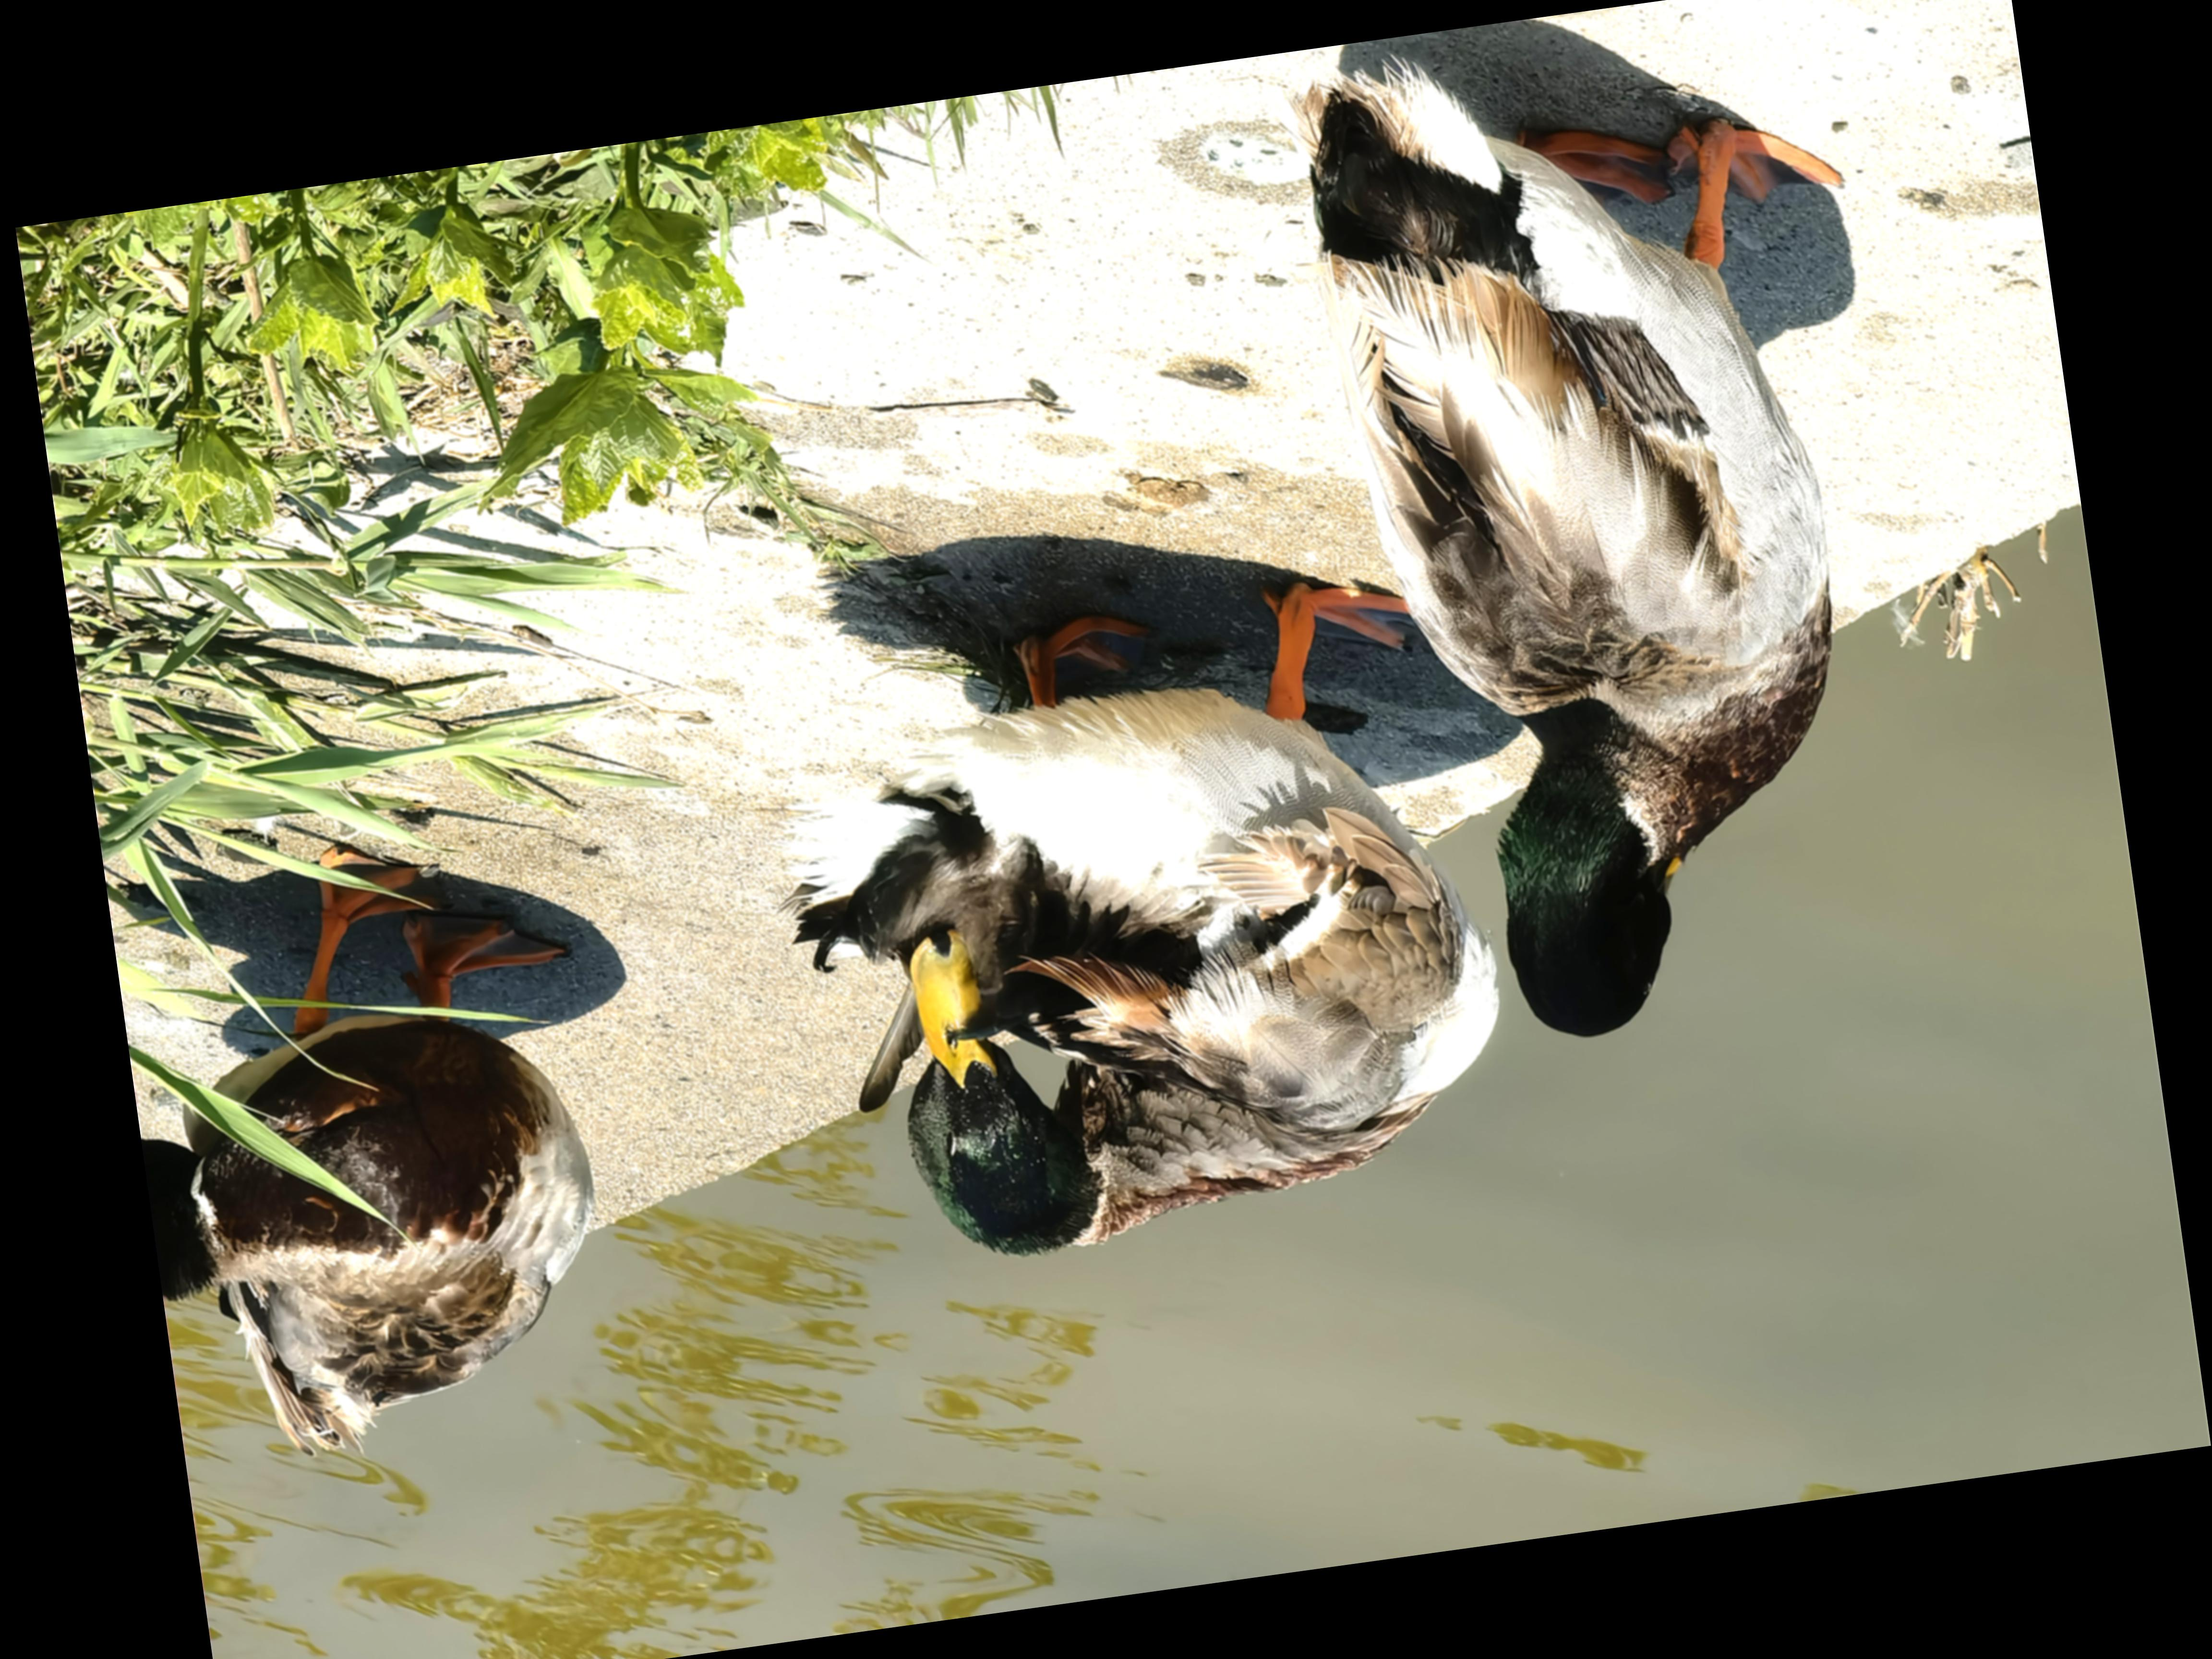duck: (1284, 0, 2003, 1087), (730, 559, 1554, 1354), (103, 789, 683, 1499)
